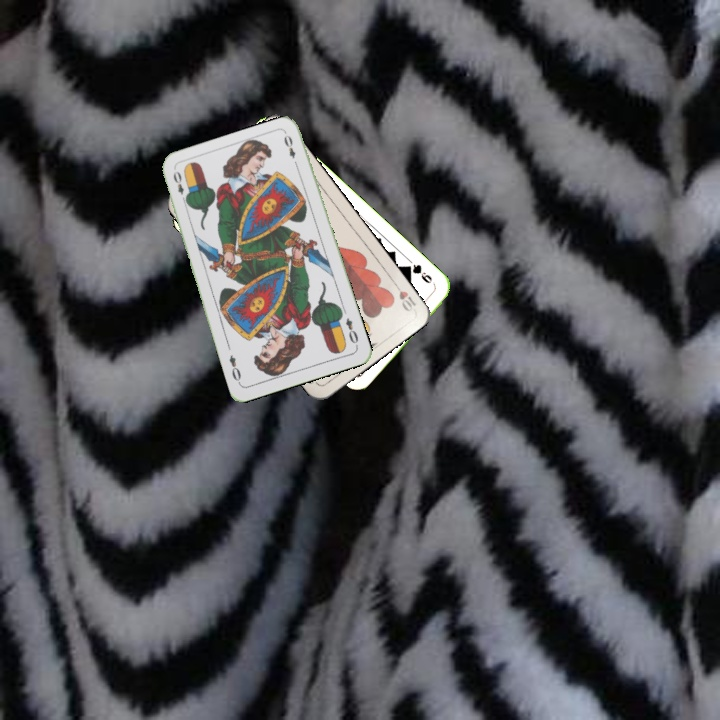EO: (169, 167, 190, 206), (342, 314, 361, 349)
G9: (402, 260, 438, 289)
H10: (389, 277, 419, 314)
